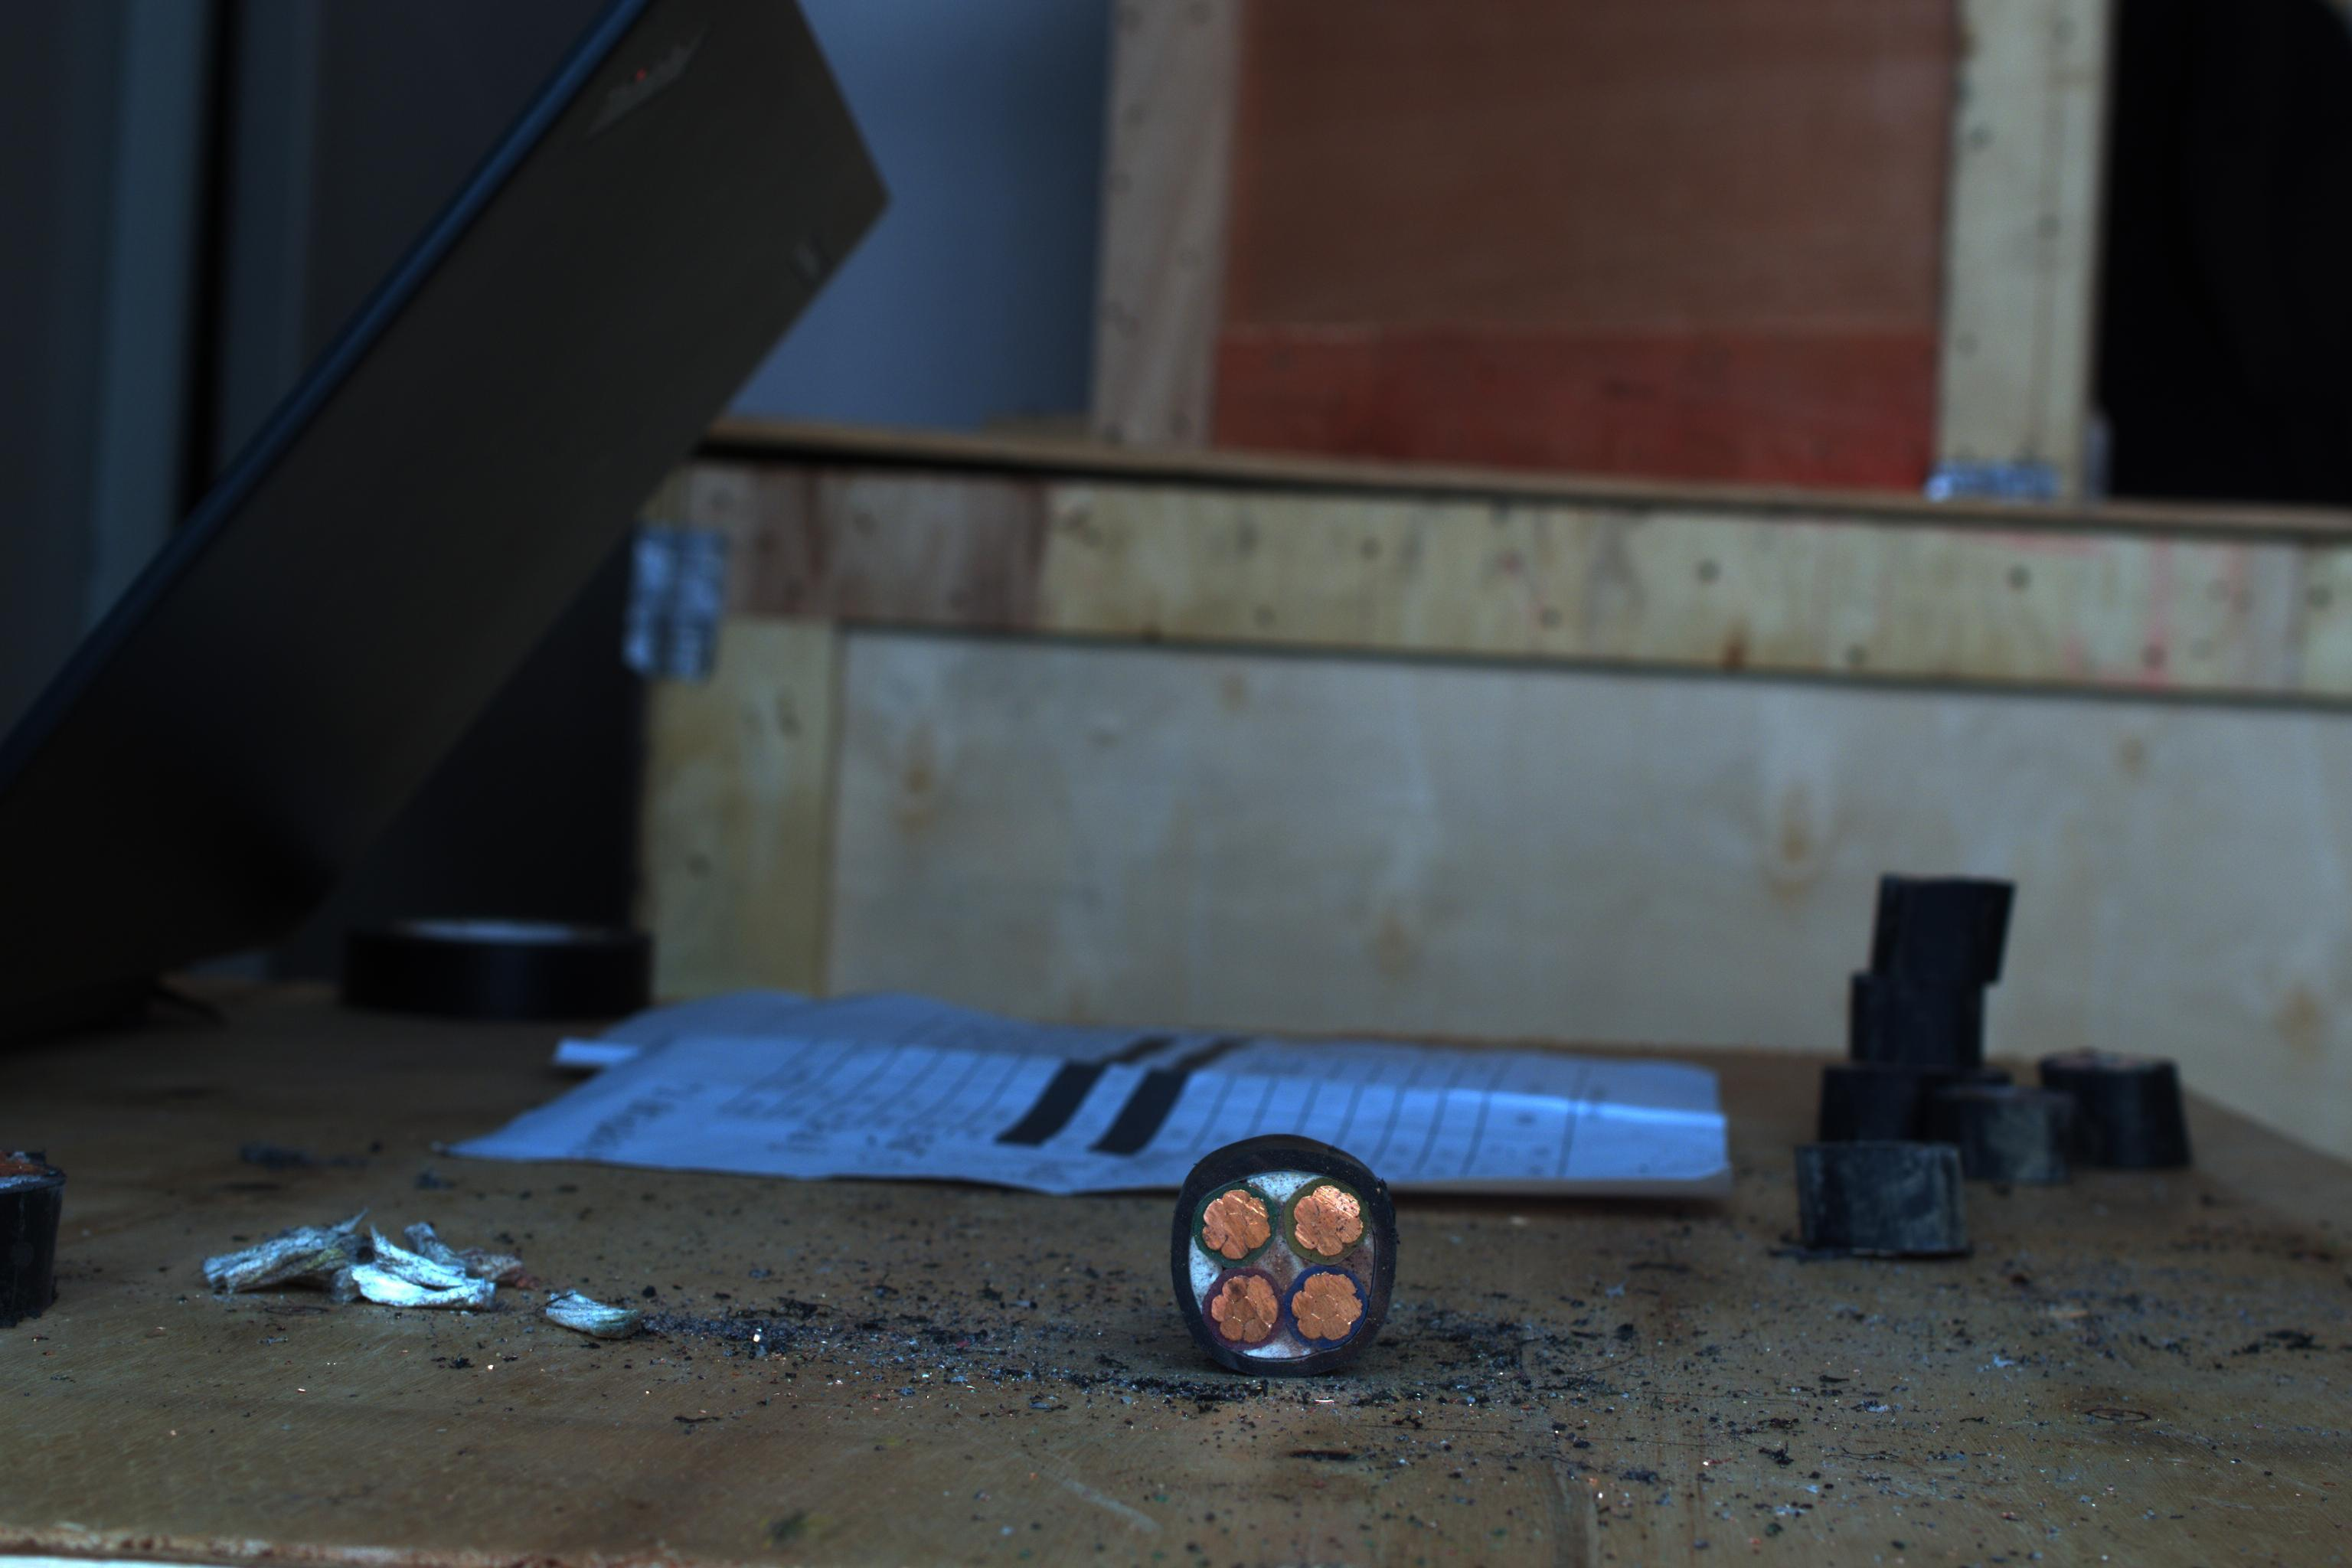YJV_0.6_1kV_4x35: (1153, 1144, 1423, 1363)
